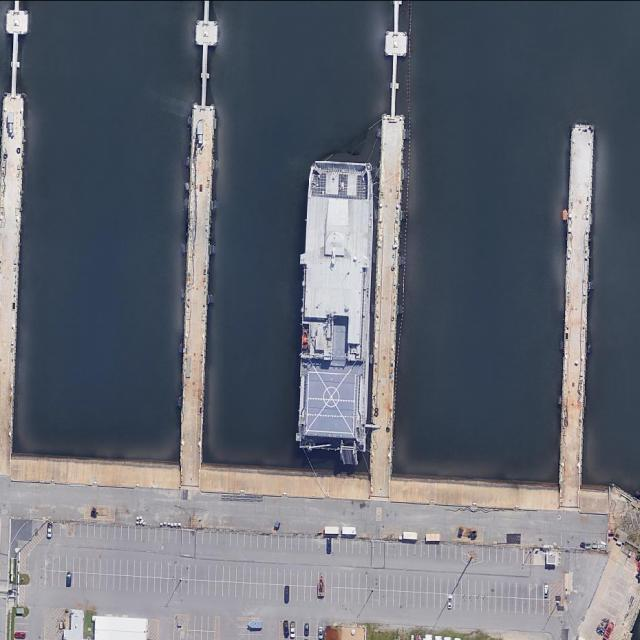Auxiliary Ships: (292, 159, 378, 452)
Dock: (178, 106, 216, 464), (557, 125, 593, 487), (370, 116, 405, 477)
